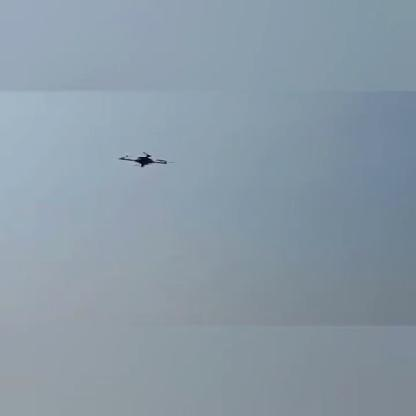drone: (117, 150, 175, 172)
